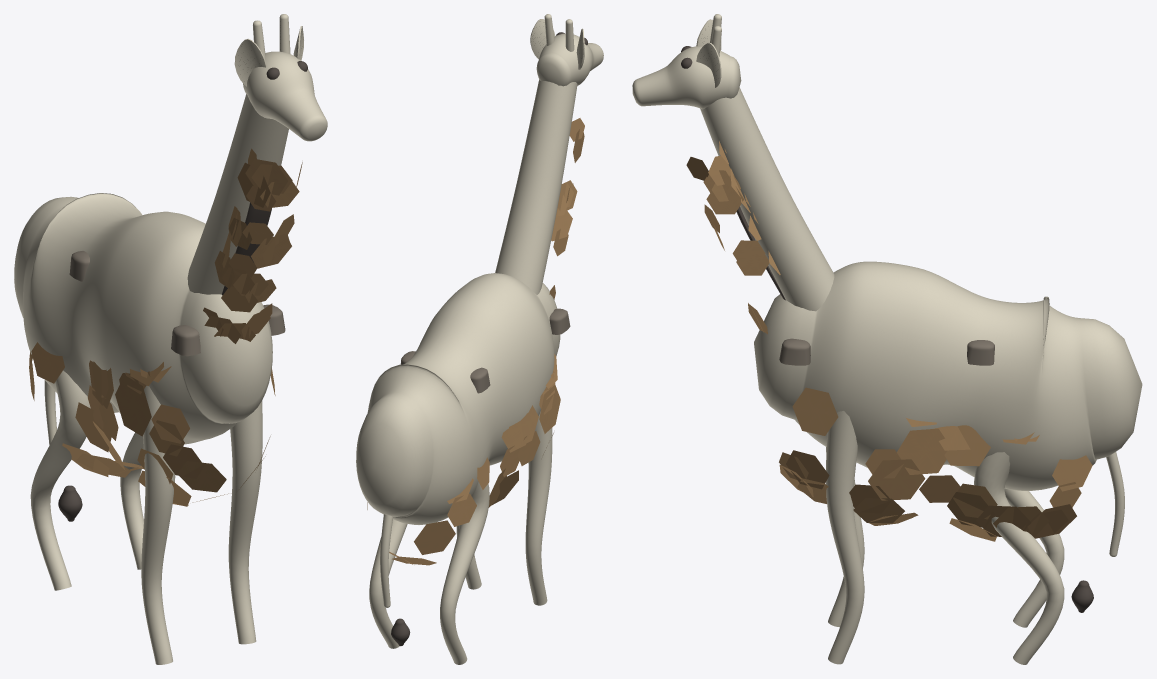
The model's file is other-reticulated-giraffe.glb.
3 renders of one model, left to right at view 1: azimuth 30°, elevation 25°; view 2: azimuth 150°, elevation 25°; view 3: azimuth 270°, elevation 25°, orthographic. The views are drawn at different scales.
Visible parts, largest first — view 1: reticulated-giraffe; view 2: reticulated-giraffe; view 3: reticulated-giraffe.
Part boxes in pixels (x1=…): reticulated-giraffe: x1=14, y1=14, x2=327, y2=664; reticulated-giraffe: x1=356, y1=14, x2=603, y2=664; reticulated-giraffe: x1=632, y1=14, x2=1142, y2=664.
Size of the model in its own units: 33638 by 160392 by 118702.
Materials: 6 (3 with a texture image).
